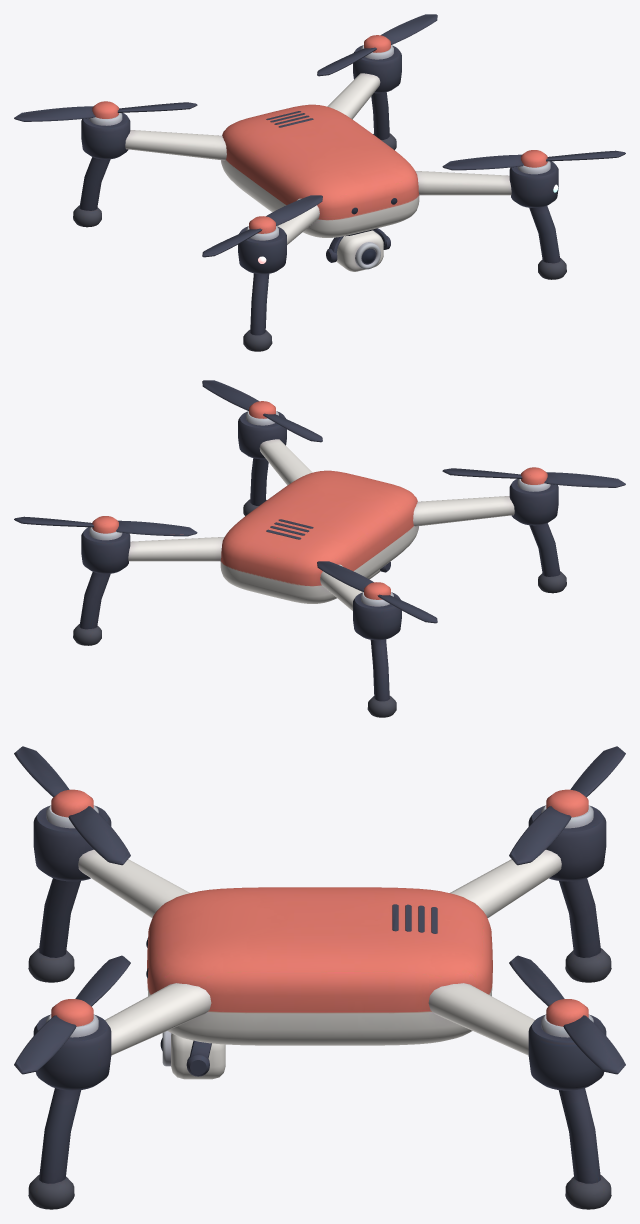
File: camera-drone.fbx
The picture shows the model from 3 angles, top to bottom: view 1: azimuth 30°, elevation 25°; view 2: azimuth 150°, elevation 25°; view 3: azimuth 270°, elevation 25°; orthographic projection. The views are drawn at different scales.
Visible parts, largest first — view 1: camera-drone_body, camera-drone_prop_fr, camera-drone_prop_bl, camera-drone_prop_br, camera-drone_prop_fl, camera-drone_tilt; view 2: camera-drone_body, camera-drone_prop_br, camera-drone_prop_fl, camera-drone_prop_fr, camera-drone_prop_bl; view 3: camera-drone_body, camera-drone_prop_bl, camera-drone_prop_fl, camera-drone_prop_br, camera-drone_prop_fr, camera-drone_tilt.
Boxes of the visible parts, x1,y1,x2,y2 form: camera-drone_body: [73, 45, 566, 351]; camera-drone_prop_fr: [442, 150, 625, 170]; camera-drone_prop_bl: [14, 101, 197, 121]; camera-drone_prop_br: [317, 14, 437, 76]; camera-drone_prop_fl: [202, 195, 322, 257]; camera-drone_tilt: [336, 230, 383, 271]; camera-drone_body: [73, 411, 566, 717]; camera-drone_prop_br: [14, 516, 197, 536]; camera-drone_prop_fl: [442, 467, 625, 487]; camera-drone_prop_fr: [202, 380, 322, 442]; camera-drone_prop_bl: [317, 561, 437, 623]; camera-drone_body: [28, 805, 611, 1209]; camera-drone_prop_bl: [509, 746, 625, 865]; camera-drone_prop_fl: [14, 746, 130, 865]; camera-drone_prop_br: [509, 955, 625, 1074]; camera-drone_prop_fr: [14, 955, 130, 1074]; camera-drone_tilt: [162, 1031, 225, 1079].
Size of the model in its own units: 0.3679 by 0.0995 by 0.2918.
Materials: 10 (6 with a texture image).
